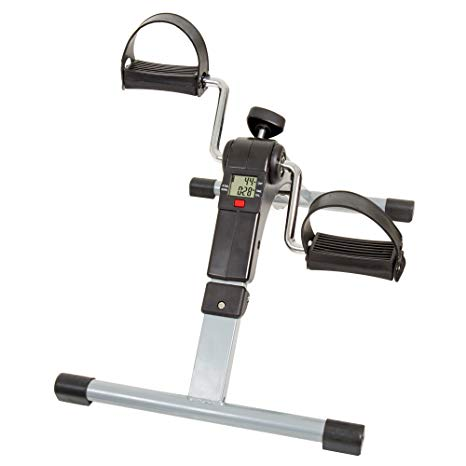gym_bike: (44, 21, 417, 453)
